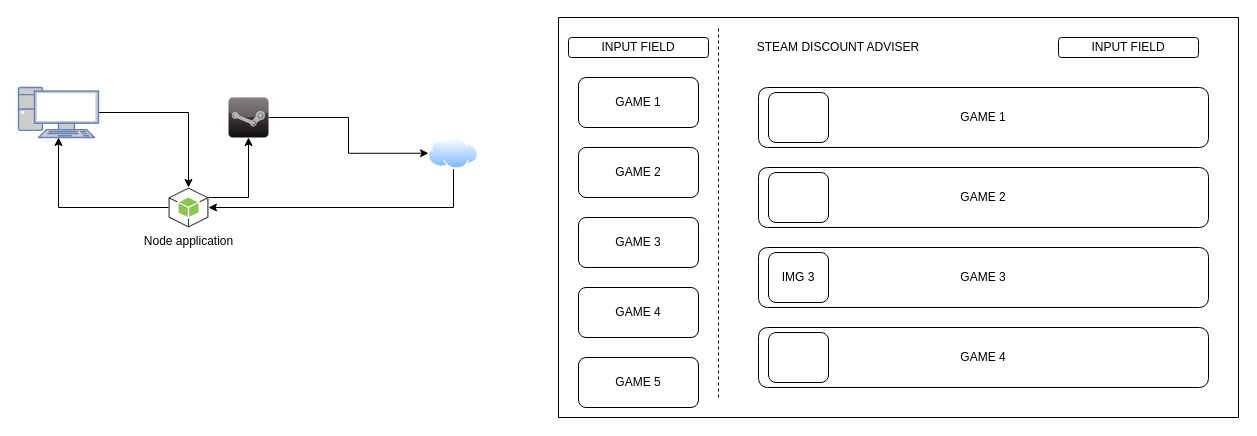
Some shapes in this 1257 by 436 pixel diagram are drawn without their labels. The shapes that lost their labels are listed below. From the top down, each one's centre as x and y in pixels, then its label:
pixel 58 112: User device
pixel 248 117: Steam API
pixel 798 117: IMG 1
pixel 453 152: Steam services
pixel 798 197: IMG 2
pixel 798 357: IMG 4
